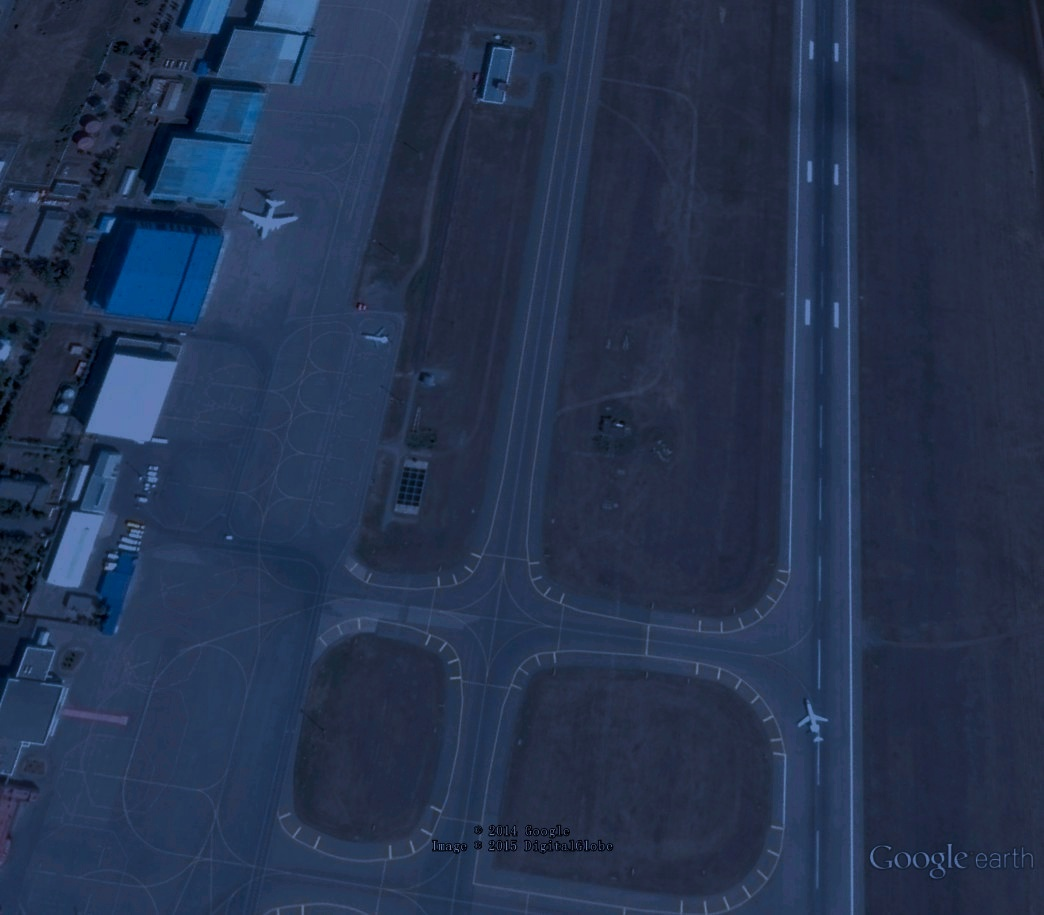aircraft: (236, 197, 303, 243), (793, 695, 832, 745), (358, 325, 392, 354)
